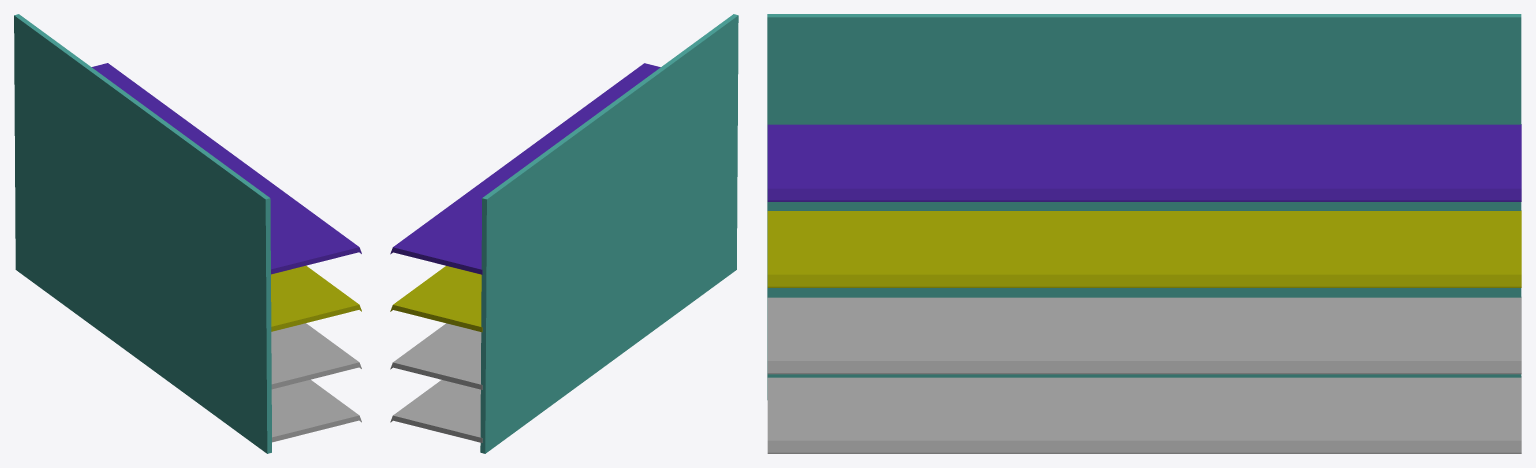
The model's file is rackMarket2.fbx.
3 renders of one model, left to right at view 1: azimuth 30°, elevation 25°; view 2: azimuth 150°, elevation 25°; view 3: azimuth 270°, elevation 25°, orthographic. The views are drawn at different scales.
Parts seen in each view (by area): view 1: polySurface1, polySurface2, polySurface4, polySurface3, polySurface5; view 2: polySurface1, polySurface2, polySurface3, polySurface4, polySurface5; view 3: polySurface1, polySurface2, polySurface4, polySurface3, polySurface5.
Boxes of the visible parts, box(x1,y1,x2,y2) form: polySurface1: box(14, 14, 271, 453); polySurface2: box(92, 63, 361, 274); polySurface4: box(271, 323, 361, 389); polySurface3: box(271, 265, 361, 331); polySurface5: box(271, 379, 361, 442); polySurface1: box(480, 14, 738, 453); polySurface2: box(390, 63, 660, 274); polySurface3: box(390, 266, 482, 332); polySurface4: box(390, 323, 482, 389); polySurface5: box(390, 380, 482, 442); polySurface1: box(767, 14, 1521, 399); polySurface2: box(767, 124, 1521, 201); polySurface4: box(767, 297, 1521, 374); polySurface3: box(767, 210, 1521, 287); polySurface5: box(767, 376, 1521, 453).
Bounding box in the file's own units: 3.2 × 8.09 × 14.47.
